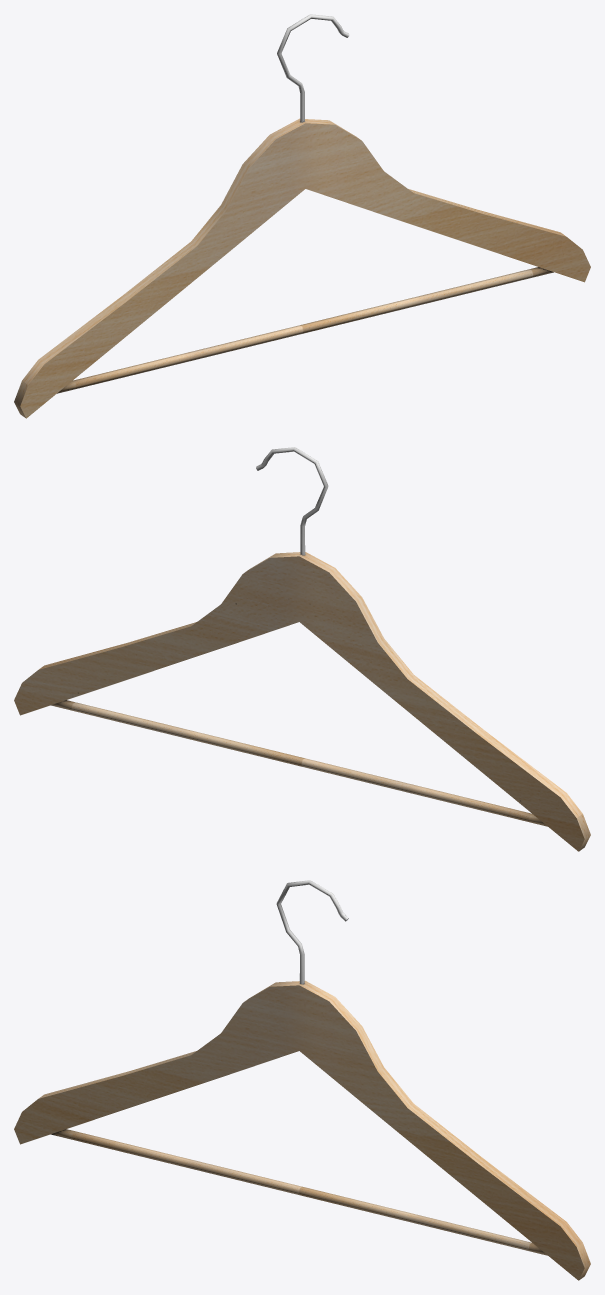
Rendered from hanger.fbx.
The picture shows the model from 3 angles, top to bottom: view 1: azimuth 30°, elevation 25°; view 2: azimuth 150°, elevation 25°; view 3: azimuth 330°, elevation 25°; orthographic projection.
Visible parts, largest first — view 1: nurbsToPoly5; view 2: nurbsToPoly5; view 3: nurbsToPoly5.
Boxes of the visible parts, left/top/right/bottom form: nurbsToPoly5: left=14, top=14, right=590, bottom=418; nurbsToPoly5: left=14, top=447, right=590, bottom=851; nurbsToPoly5: left=14, top=880, right=590, bottom=1280.
Size of the model in its own units: 0.6896 by 0.3836 by 0.013.
